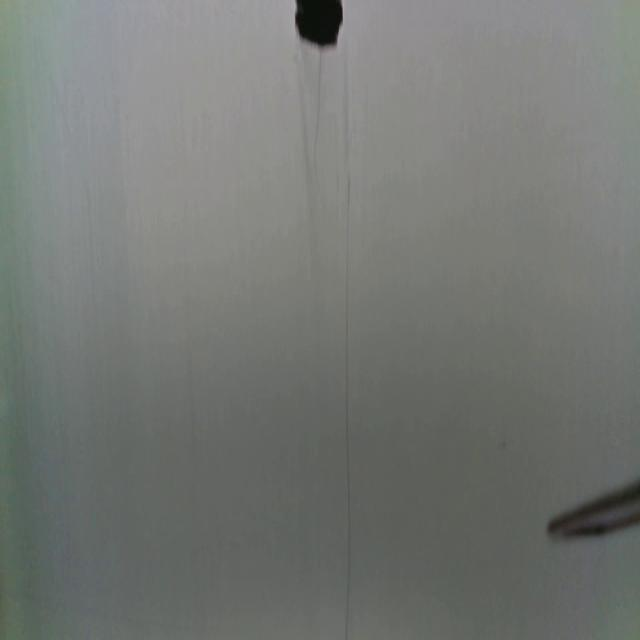crease: (343, 178, 353, 640)
hole: (292, 0, 344, 54)
